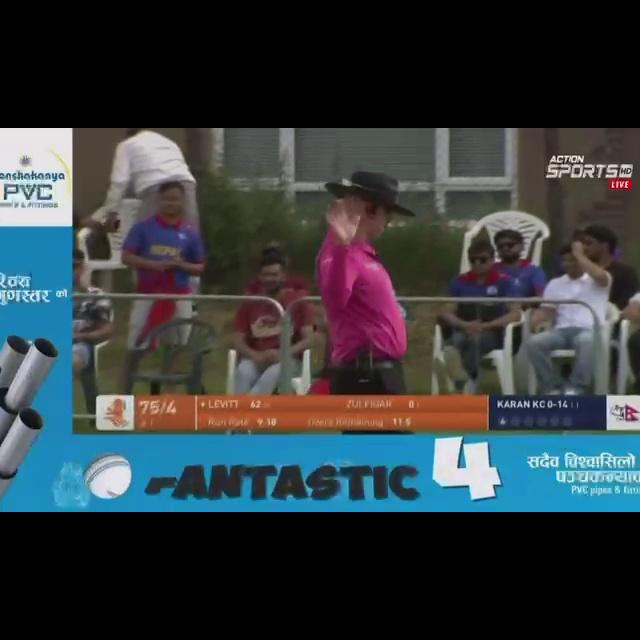umpire: (278, 156, 463, 379)
